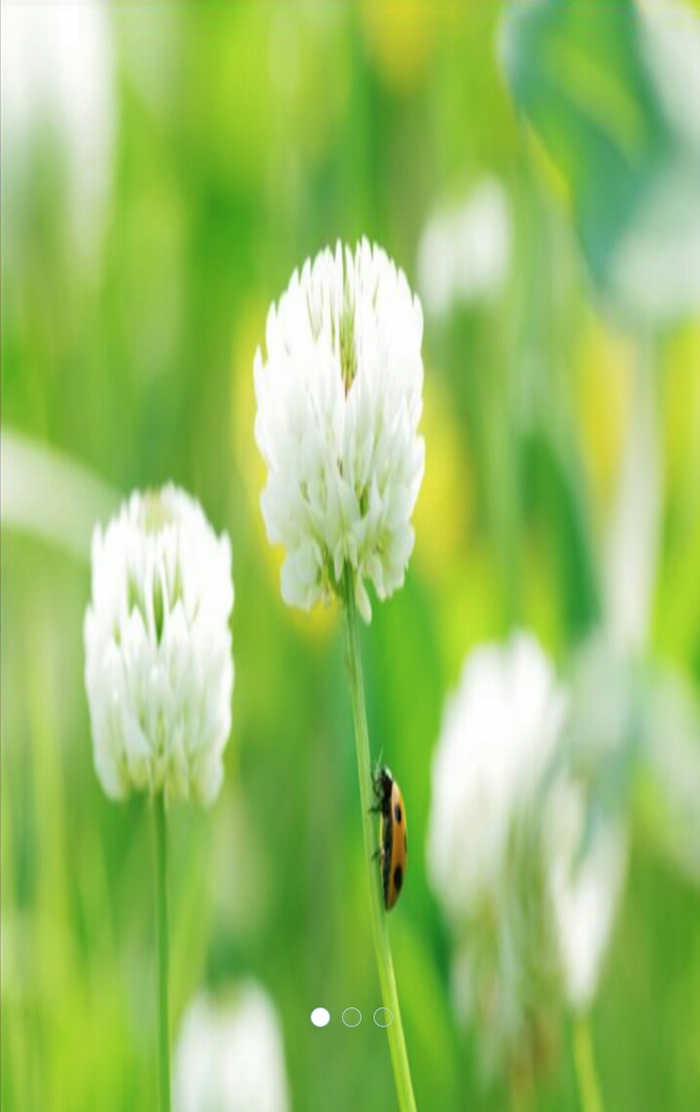ImgView: (1, 1, 699, 1111)
